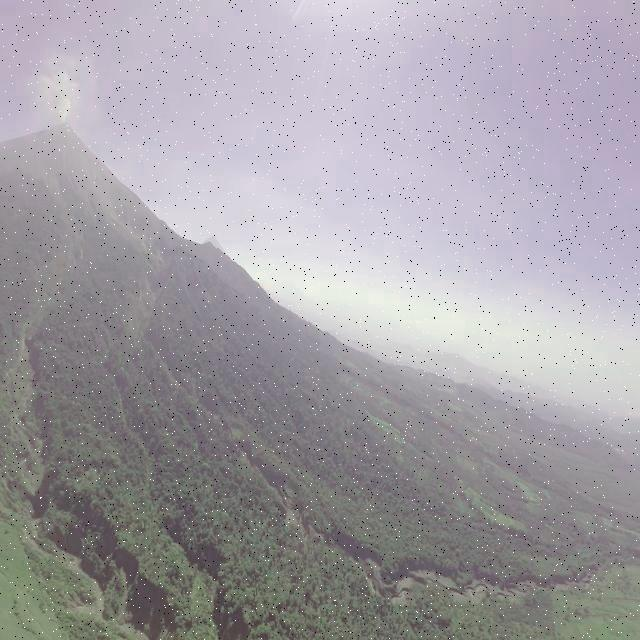Plume: (38, 72, 78, 123), (56, 98, 72, 122)
Summit: (50, 120, 77, 139)
